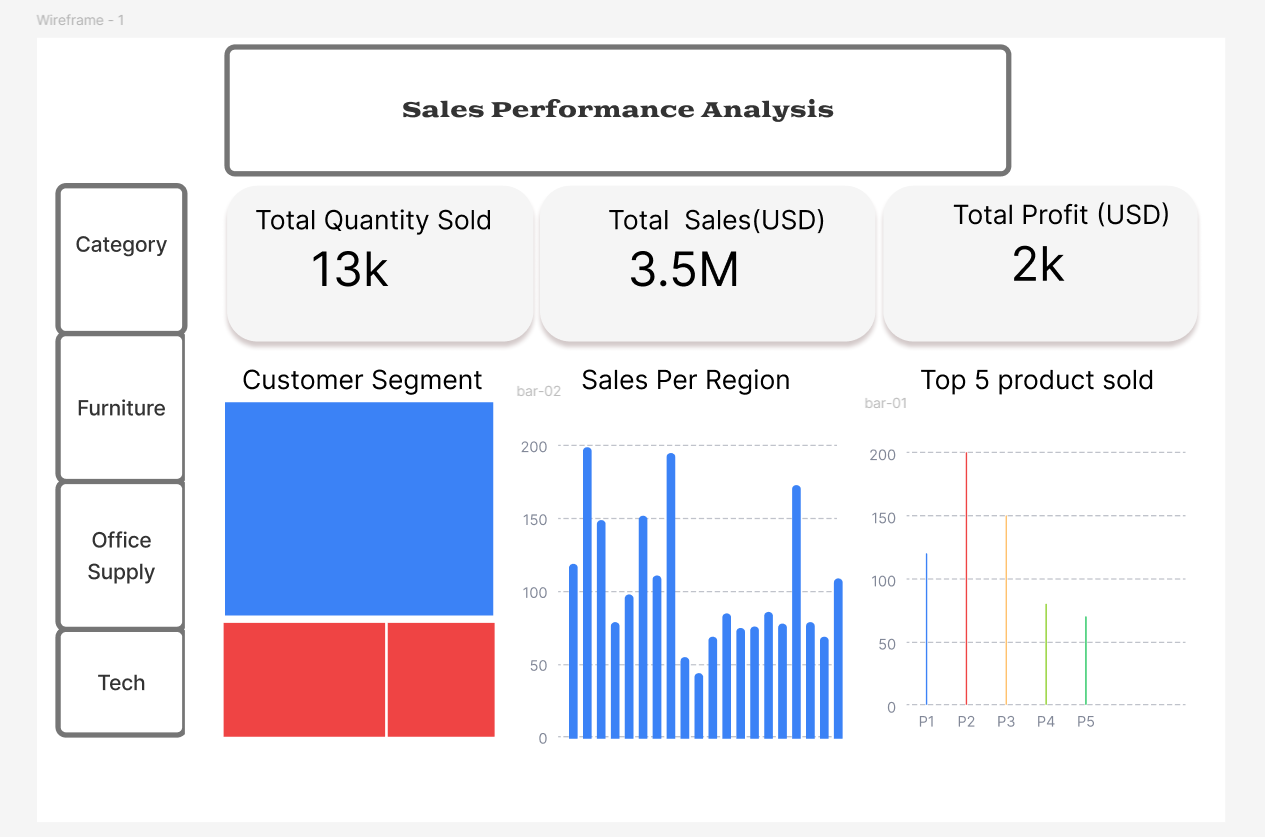

What the dashboard file says about the page in this screenshot:
{"tool":"powerbi","page":{"name":"Page 1","canvas":[1280,720],"ordinal":0},"visuals":[{"type":"textbox","box":[11,0,1269.3,81.9],"z":1000},{"type":"slicer","title":"CATEGORY","fields":{"Values":["Sample - Superstore1.Category"]},"box":[11.2,82.5,163.8,636.2],"z":2000},{"type":"card","title":"Total Quantity Sold","fields":{"Values":["Sum(Sample - Superstore1.Quantity)"]},"box":[174.9,81.9,364.4,174.9],"z":3000},{"type":"card","title":"Total Sales (USD)","fields":{"Values":["Sum(Sample - Superstore1.Sales)"]},"box":[539.3,81.9,380.3,174.9],"z":4000},{"type":"card","title":"Total Profit (USD)","fields":{"Values":["Sum(Sample - Superstore1.Profit)"]},"box":[919.6,81.9,360.7,174.9],"z":5000},{"type":"treemap","title":"Customer Segment","fields":{"Group":["Sample - Superstore1.Segment"],"Values":["Sum(Sample - Superstore1.Sales)"]},"box":[174.9,256.8,294.7,463.5],"z":6000},{"type":"clusteredBarChart","title":"Sub-Categories ","fields":{"Category":["Sample - Superstore1.Sub-Category"],"Y":["Sum(Sample - Superstore1.Profit)"]},"box":[939.1,258,341.2,462.2],"z":7000},{"type":"clusteredBarChart","title":"Total Sales in each Region","fields":{"Category":["Sample - Superstore1.Region"],"Y":["Sum(Sample - Superstore1.Sales)"]},"box":[469.6,256.8,469.6,463.5],"z":8000}]}

Visuals, with their boxes on the page's 1280x720 design canvas (x1, y1, x2, y2). These are canvas units, not pixel positions in the 1265x837 screenshot, which may show the page scaled, cropped or inside an application window:
textbox: 11 0 1280 82
"CATEGORY" slicer: 11 82 175 719
"Total Quantity Sold" card: 175 82 539 257
"Total Sales (USD)" card: 539 82 920 257
"Total Profit (USD)" card: 920 82 1280 257
"Customer Segment" treemap: 175 257 470 720
"Sub-Categories " clusteredBarChart: 939 258 1280 720
"Total Sales in each Region" clusteredBarChart: 470 257 939 720
